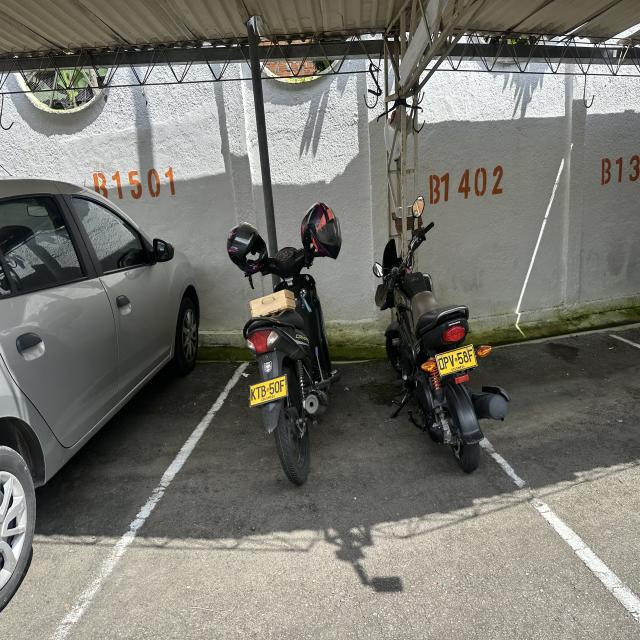number plate: (436, 344, 477, 376), (249, 375, 287, 407)
